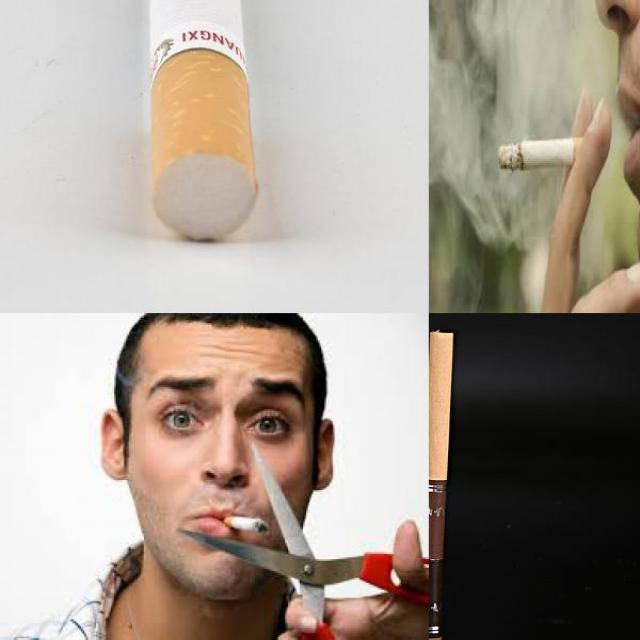smoking: (150, 0, 258, 241), (429, 324, 464, 562), (498, 136, 601, 170), (222, 516, 268, 534)
